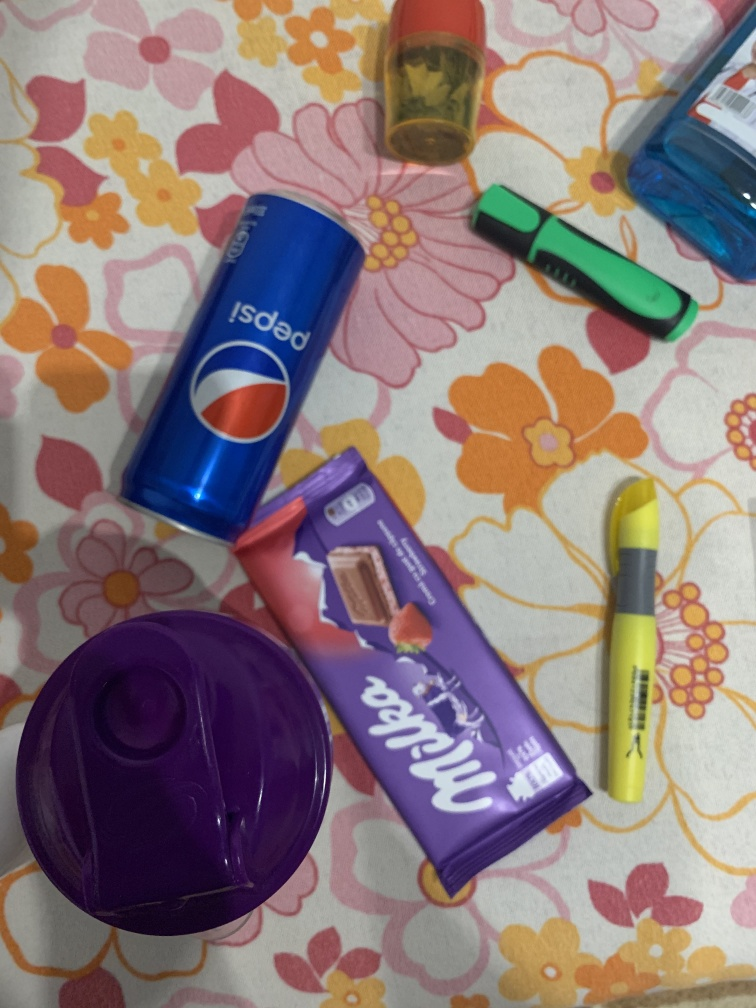milka: (205, 446, 598, 907)
pepsi: (116, 184, 368, 546)
